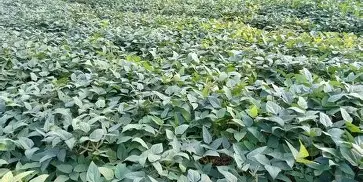crops: (0, 0, 357, 182), (156, 3, 256, 41), (60, 1, 107, 25)
